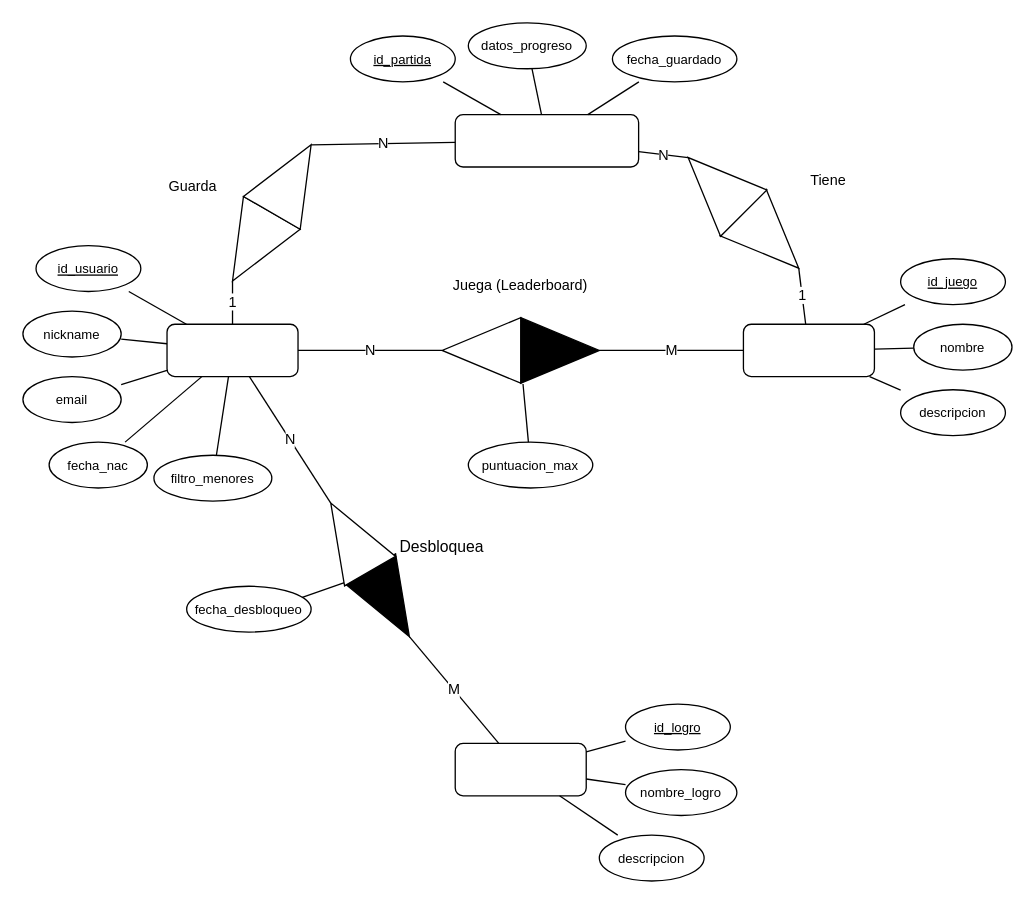
Image size: 1035x904. Some labels were removed from this diagram. Here are the shapes that lost their labels. From the top down, the centre of each, then its label:
At point 546,140: "Partida (No Terminada)".
At point 232,350: "Usuario".
At point 808,350: "Juego".
At point 520,769: "Logro".
